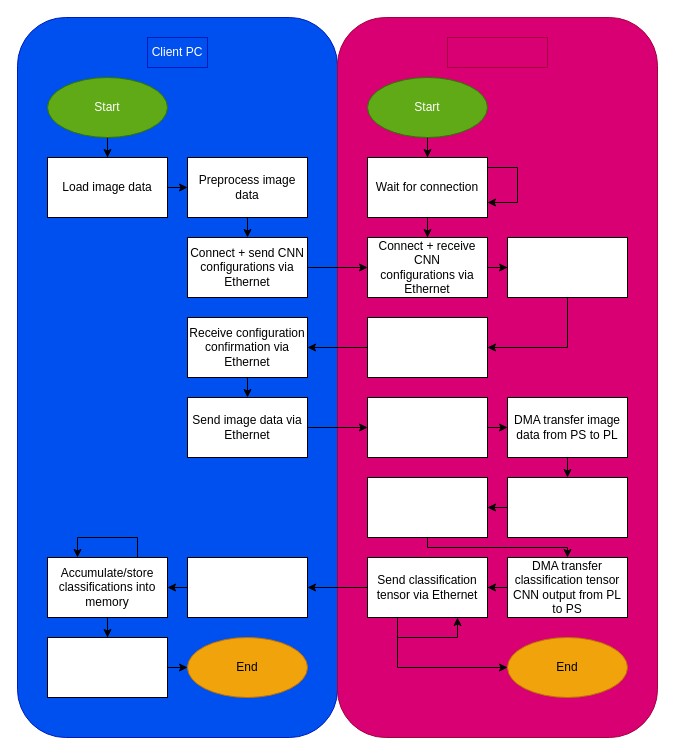
The diagram is 675 pixels wide and 755 high, and some of its shapes have lost their labels. Here are the shapes that lost their labels. From the top down, the box of each, then its label:
(446, 36, 548, 68): Host FPGA Board
(506, 236, 628, 298): Initialize CNN configurations
(366, 316, 488, 378): Send configuration confirmation via Ethernet
(366, 396, 488, 458): Receive image data via Ethernet
(366, 476, 488, 538): Feedforward image data into CNN on PL
(506, 476, 628, 538): Capture timestamp for speed metrics (and after feedforward)
(186, 556, 308, 618): Receive classification tensor via Ethernet
(46, 636, 168, 698): Generate speed and correctness metrics
